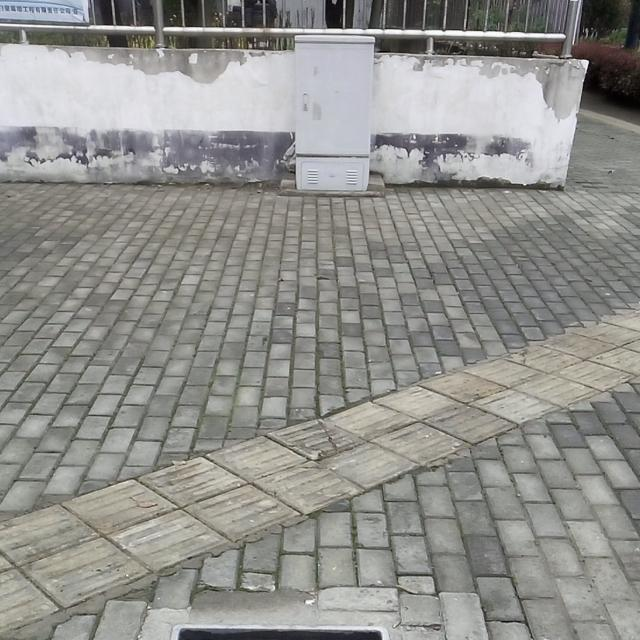lose: (110, 580, 430, 640)
